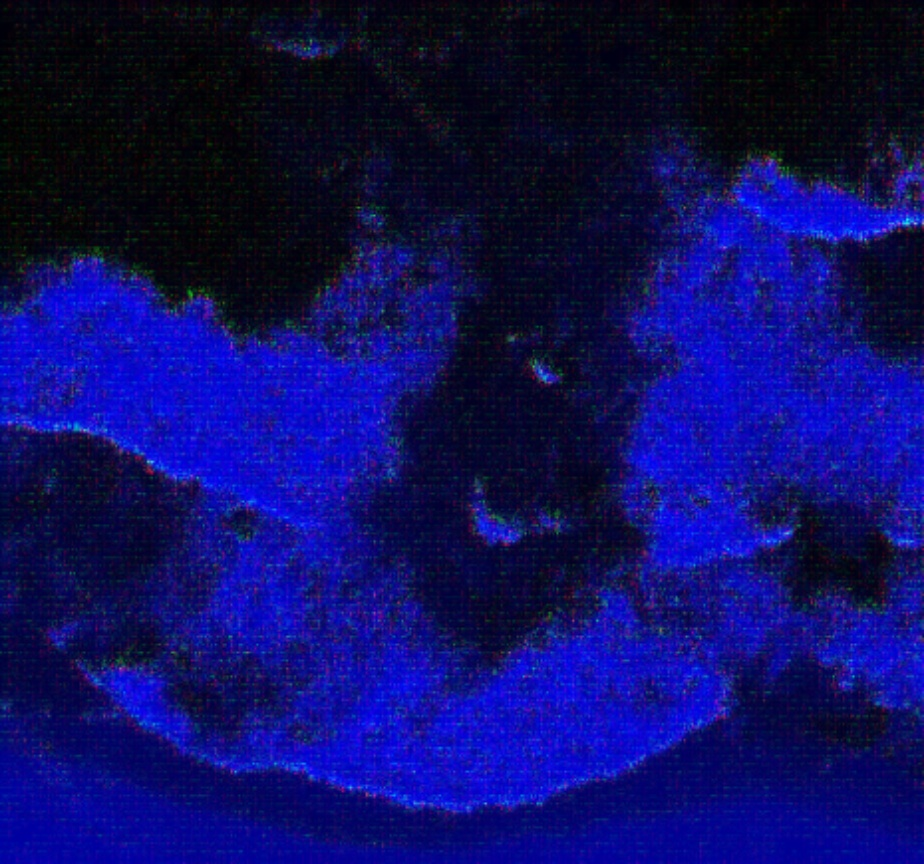rip_current: (356, 86, 699, 707)
